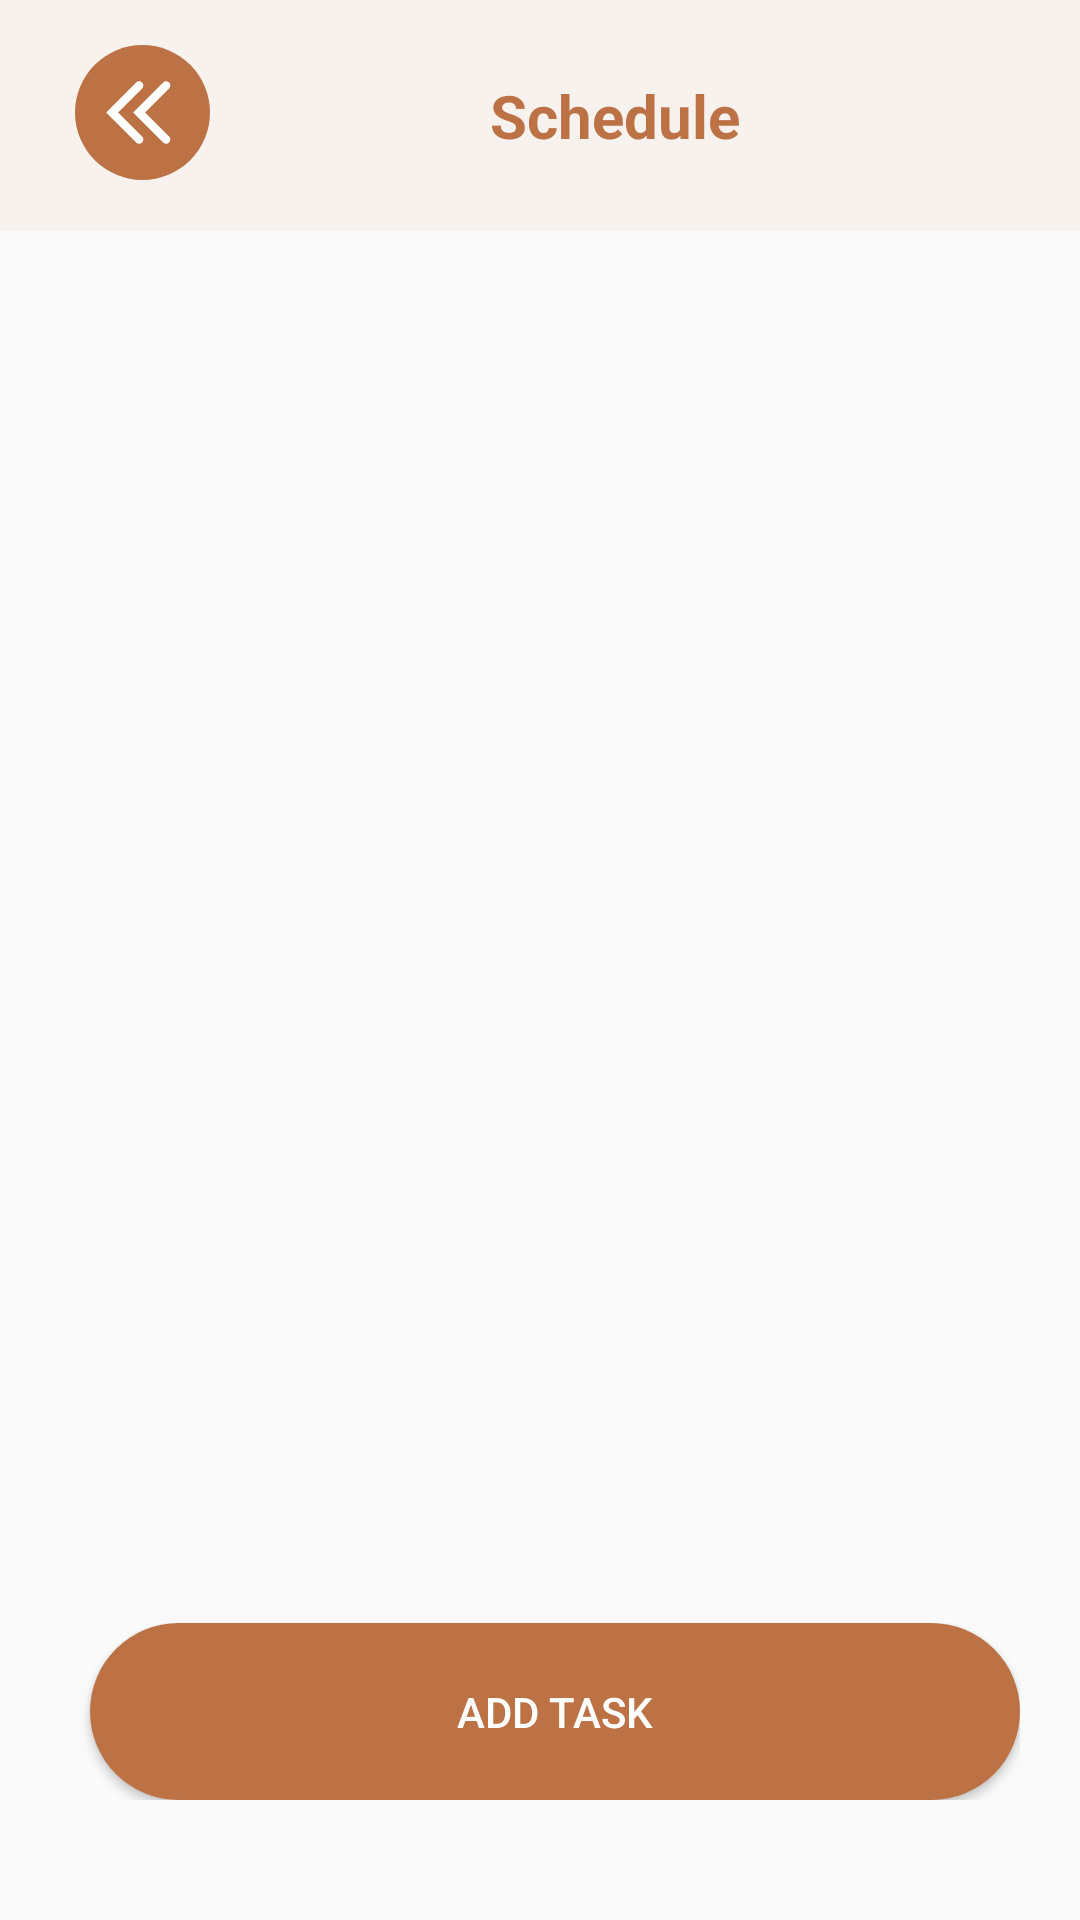

Named icons in this screenshot (1080w x 1920h) and their bounding boxes, region(x1, y1, x2, y2):
back button: region(75, 45, 210, 180)
